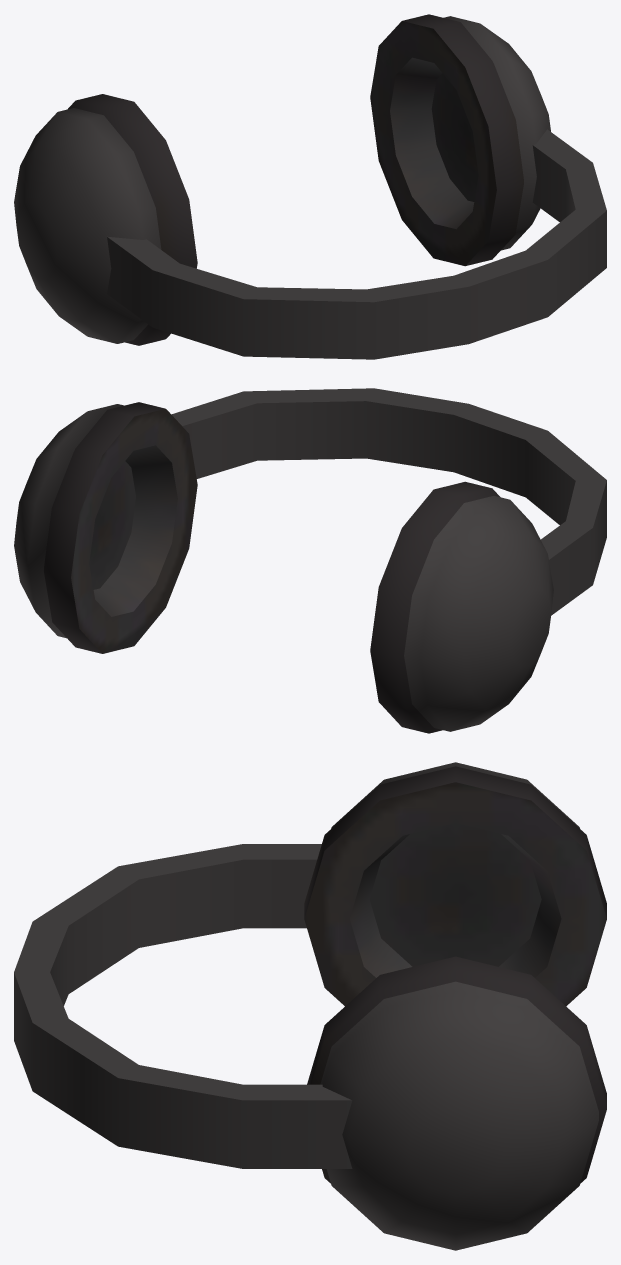
Rendered from EarHat_Relic.fbx.
3 views of the same model, one above another, from view 1: azimuth 30°, elevation 25°; view 2: azimuth 150°, elevation 25°; view 3: azimuth 270°, elevation 25° (orthographic). The views are drawn at different scales.
Visible parts, largest first — view 1: Relic_CD; view 2: Relic_CD; view 3: Relic_CD.
Boxes of the visible parts, x1=… form: Relic_CD: x1=14, y1=14, x2=606, y2=359; Relic_CD: x1=14, y1=388, x2=606, y2=733; Relic_CD: x1=14, y1=762, x2=606, y2=1250.
Bounding box in the file's own units: 0.8629 × 0.383 × 0.7504.
Materials: 1 (1 with a texture image).
